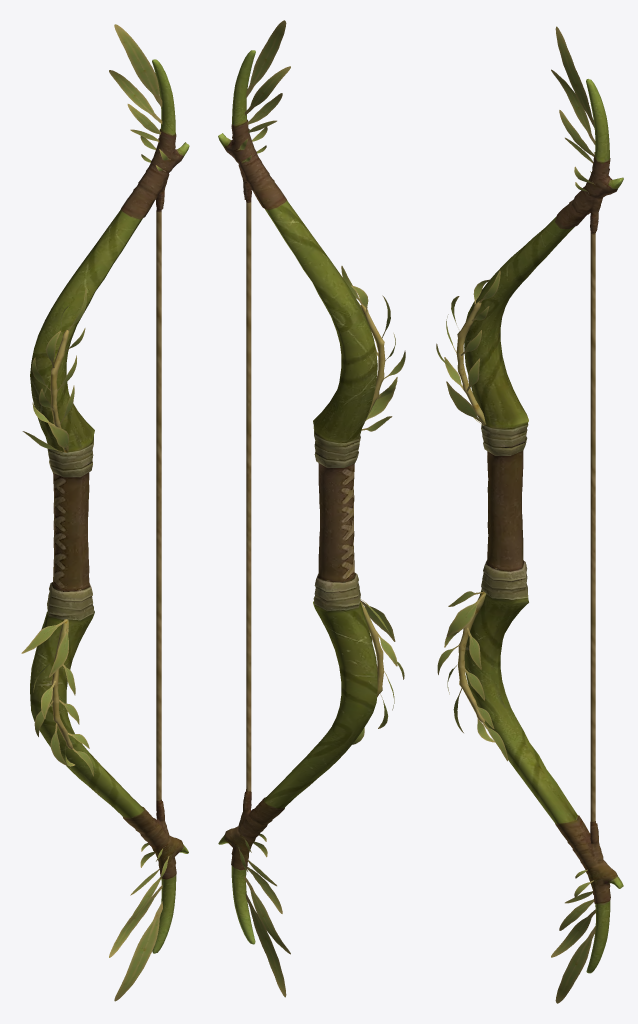
The picture shows the model from 3 angles, left to right: view 1: azimuth 30°, elevation 25°; view 2: azimuth 150°, elevation 25°; view 3: azimuth 330°, elevation 25°; orthographic projection.
Visible parts, largest first — view 1: SM_Shortbow_Willow_2H_01_LOD0; view 2: SM_Shortbow_Willow_2H_01_LOD0; view 3: SM_Shortbow_Willow_2H_01_LOD0.
Part boxes in pixels (<box>): SM_Shortbow_Willow_2H_01_LOD0: <box>21,24,189,1001</box>; SM_Shortbow_Willow_2H_01_LOD0: <box>218,20,405,997</box>; SM_Shortbow_Willow_2H_01_LOD0: <box>436,26,623,1003</box>.
Size of the model in its own units: 0.3193 by 1.72 by 0.103.
Materials: 1 (1 with a texture image).
